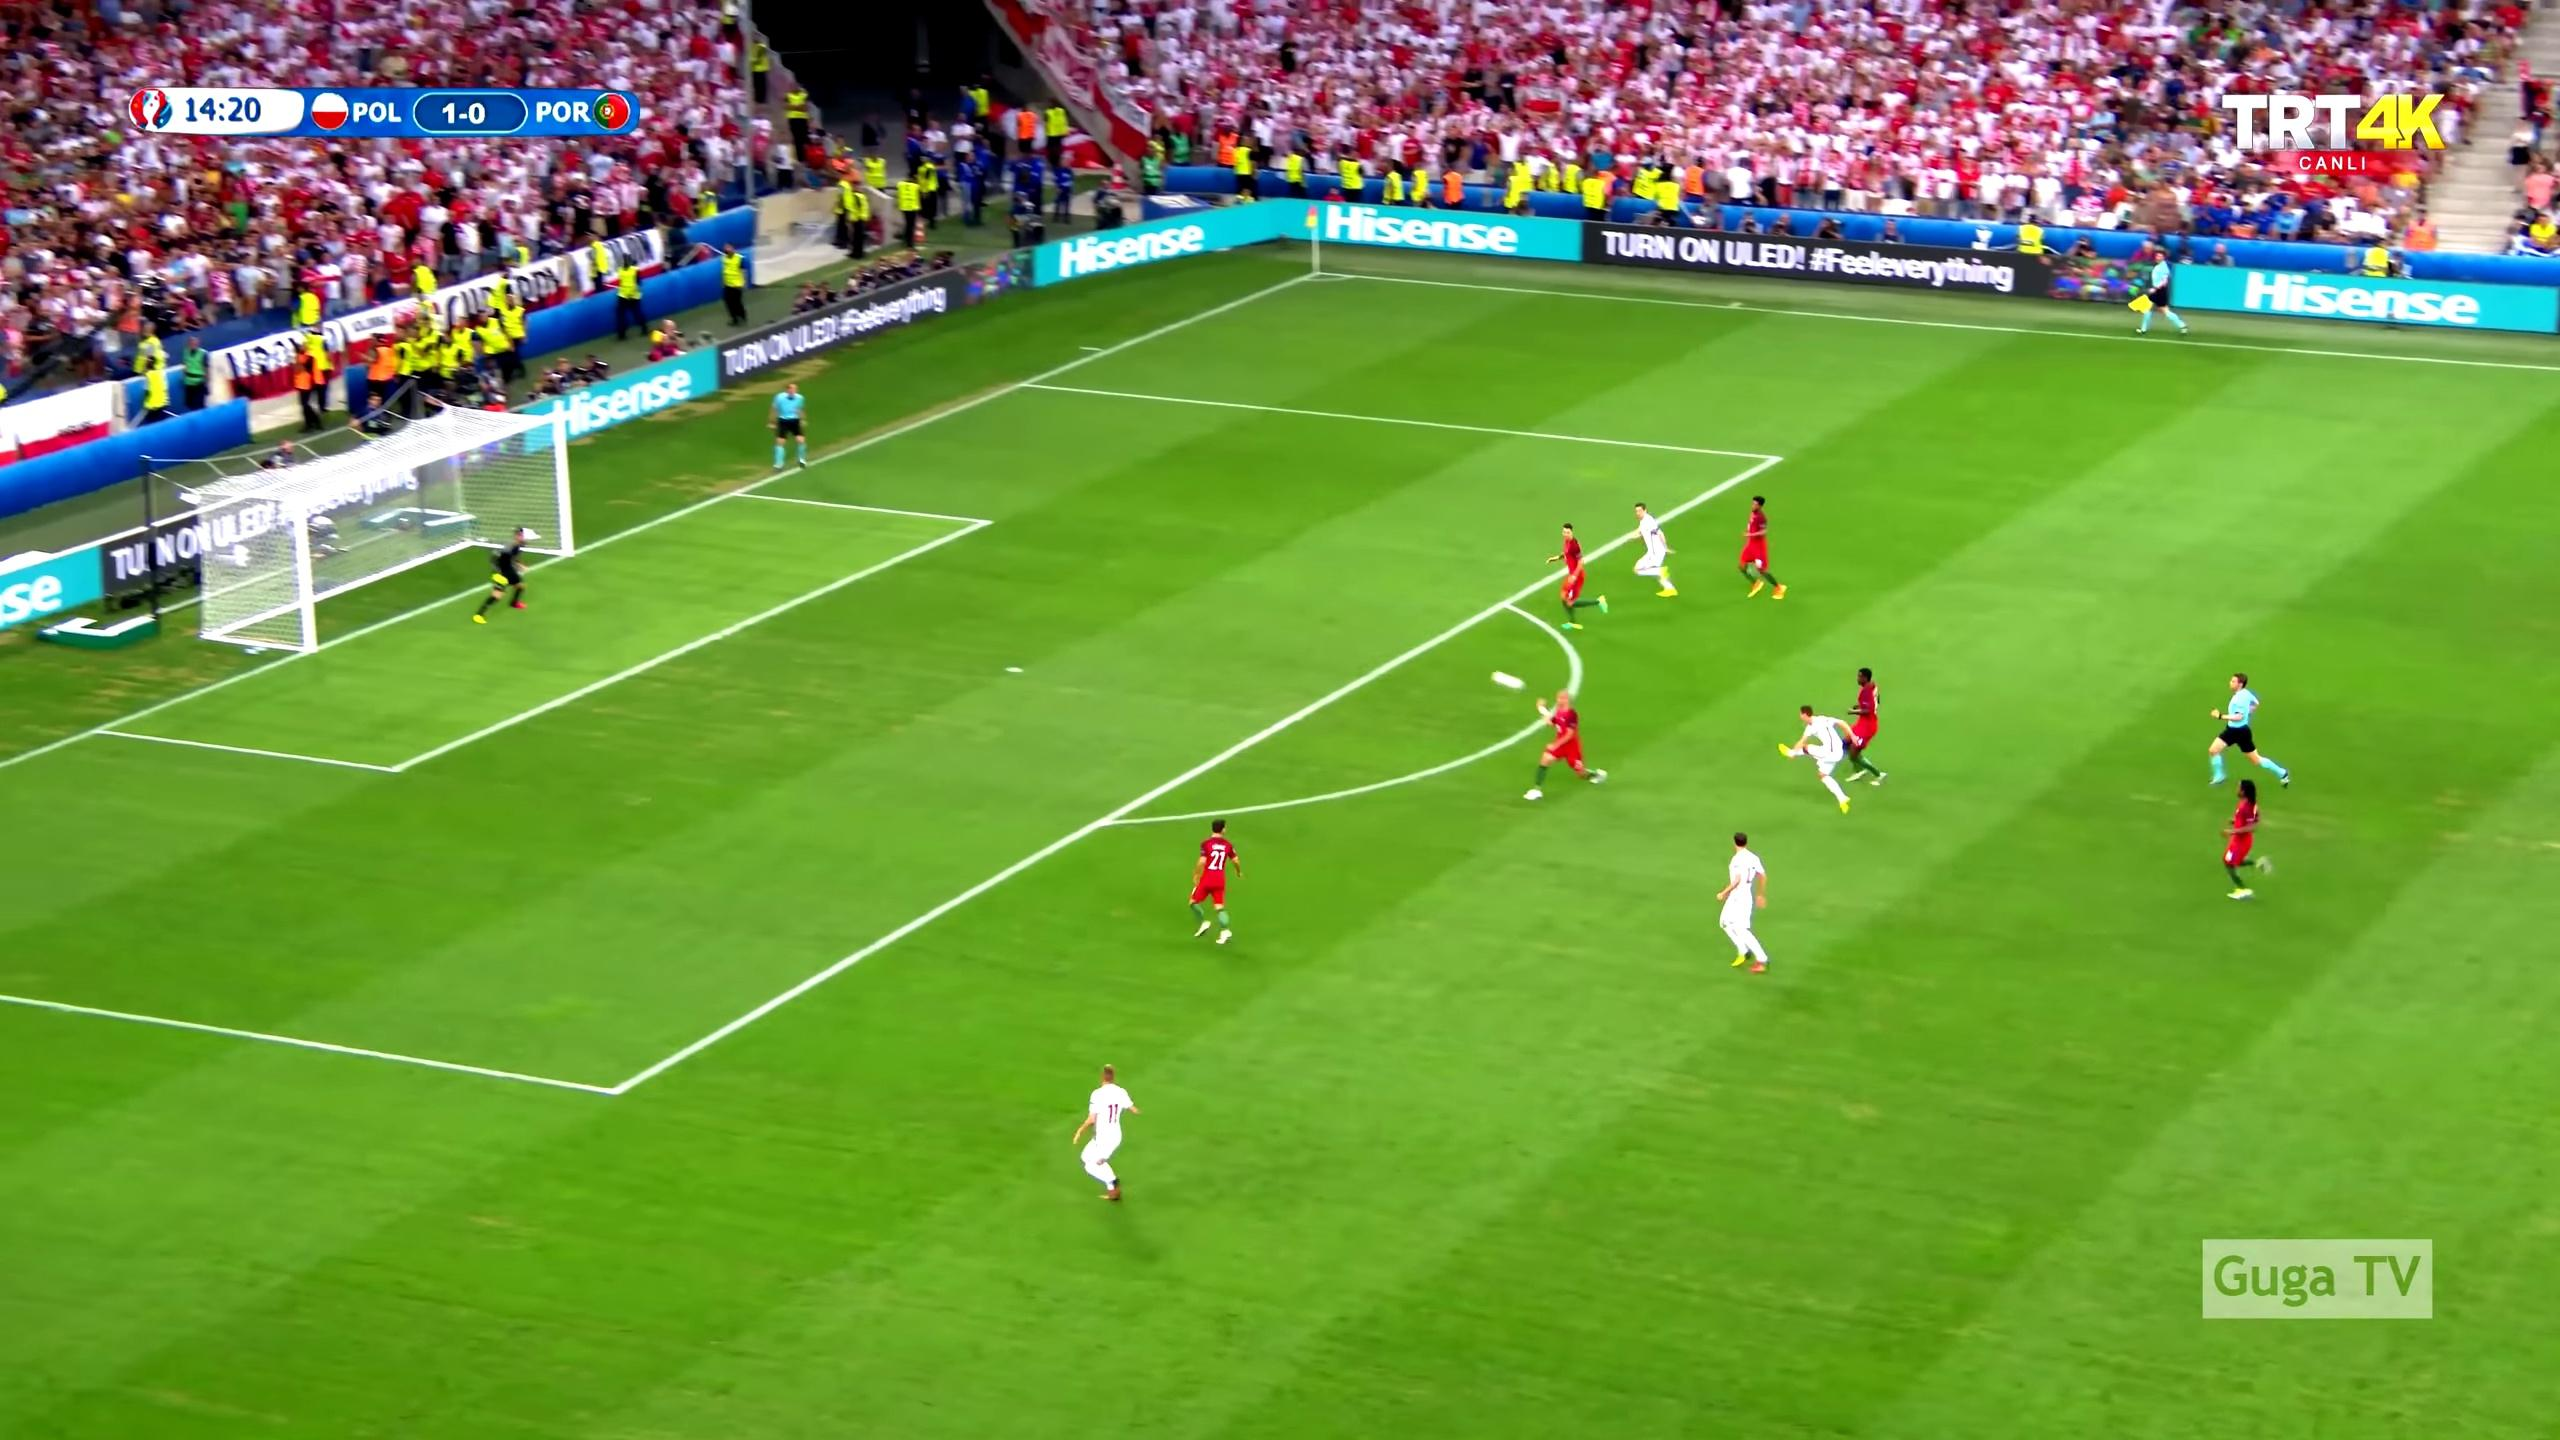ball: (1490, 664, 1530, 705)
goalkeeper: (470, 519, 533, 627)
player: (1069, 1061, 1146, 1206), (1519, 687, 1611, 806), (1711, 829, 1780, 982), (1774, 703, 1863, 818), (1182, 816, 1245, 950), (2219, 776, 2276, 904), (1546, 520, 1612, 630), (2126, 249, 2199, 345), (1621, 501, 1689, 601), (1734, 491, 1791, 605), (1839, 664, 1891, 787)
referee: (2200, 670, 2298, 793), (766, 376, 812, 475)
